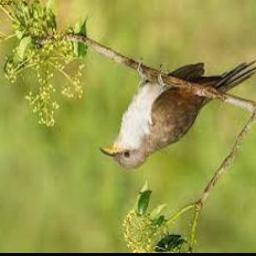Cuckoo: (99, 63, 256, 170)
